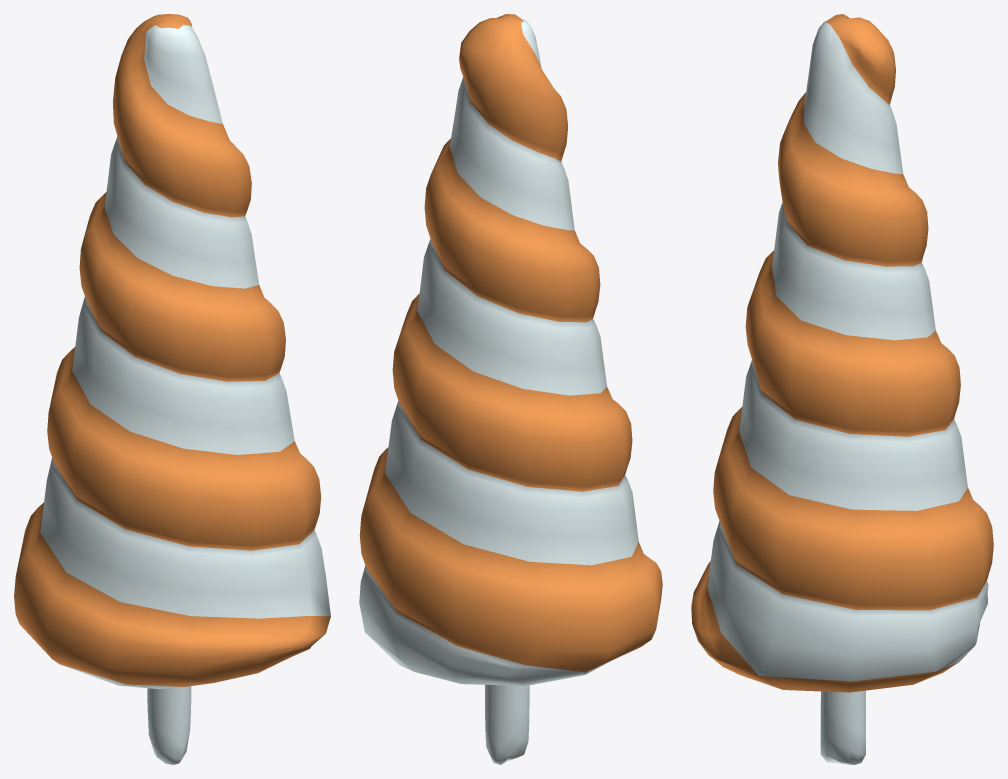
Rendered from Tree_Candy_05.fbx.
3 renders of one model, left to right at view 1: azimuth 30°, elevation 25°; view 2: azimuth 150°, elevation 25°; view 3: azimuth 270°, elevation 25°, orthographic.
Parts seen in each view (by area): view 1: Tree_Candy_05_LOD0; view 2: Tree_Candy_05_LOD0; view 3: Tree_Candy_05_LOD0.
Boxes of the visible parts, bbox=[...] form: Tree_Candy_05_LOD0: bbox=[14, 14, 330, 764]; Tree_Candy_05_LOD0: bbox=[359, 14, 662, 764]; Tree_Candy_05_LOD0: bbox=[691, 14, 993, 764].
Size of what is drawn, in the model's own units: 555 by 1476 by 543.
